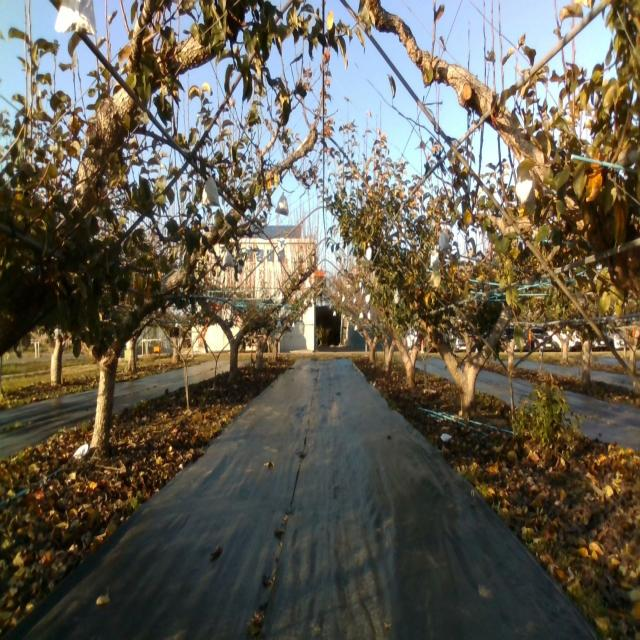pearbags: (514, 177, 535, 206), (202, 176, 221, 206), (275, 191, 289, 218), (438, 232, 450, 253), (222, 250, 234, 268)
